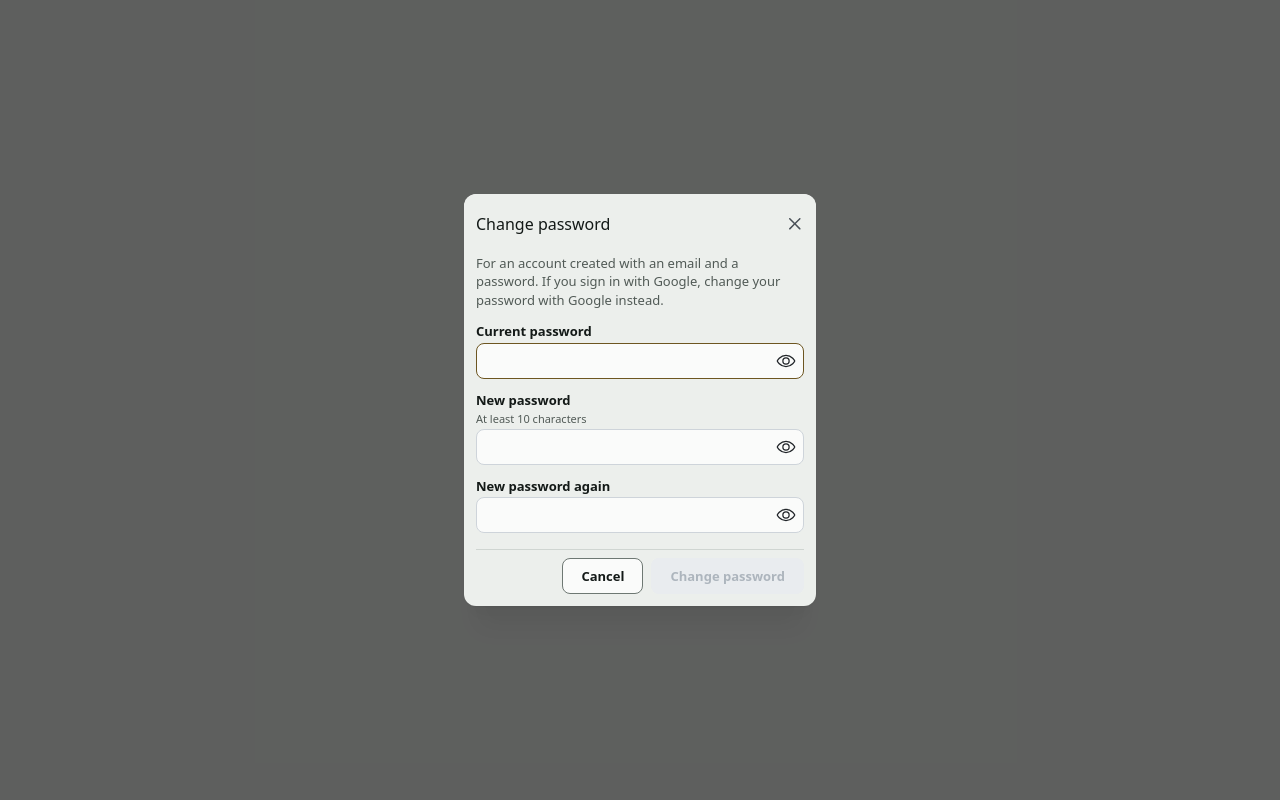
Test: a changed password says this browser is signed in again and the others are not
In the password field labelled "Current password": (640, 361) [477,344,803,378], type "password1234"
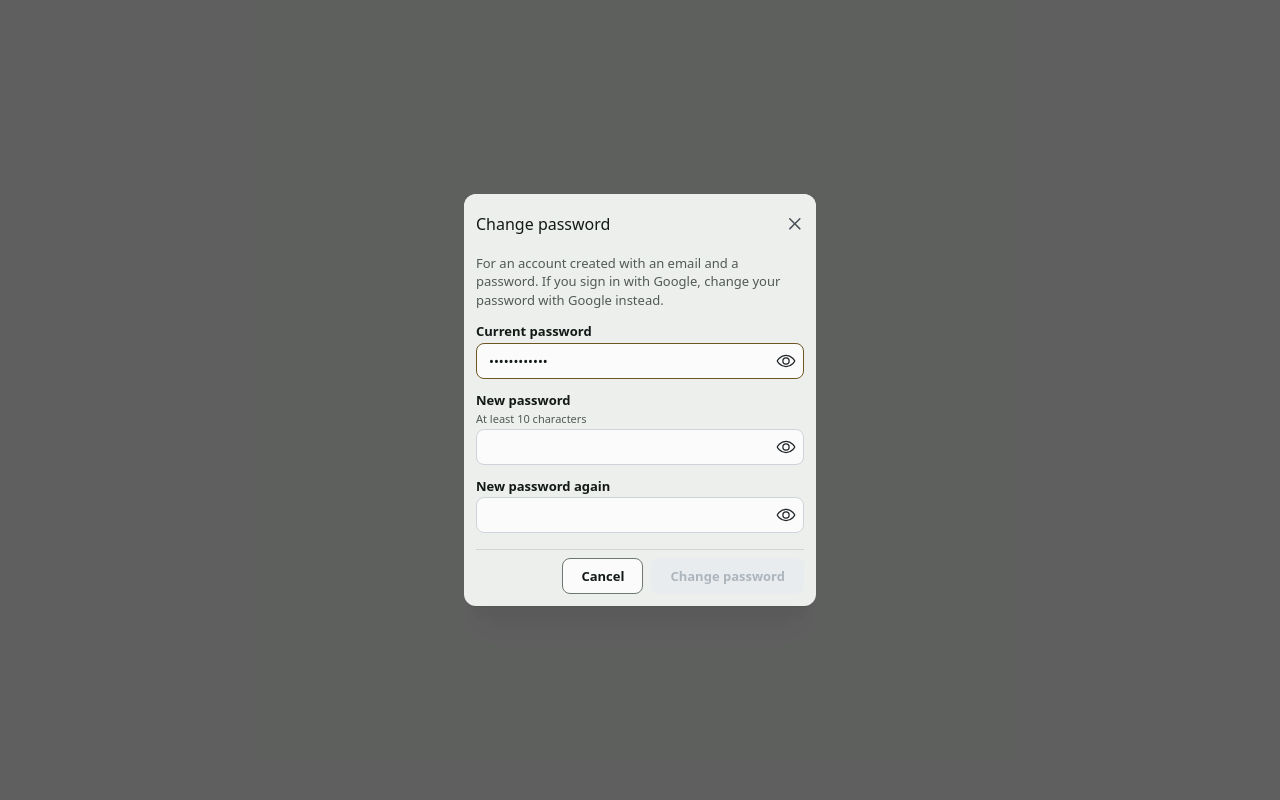
In the password field labelled "New password": (640, 447) [477,430,803,464], type "newpassword12"
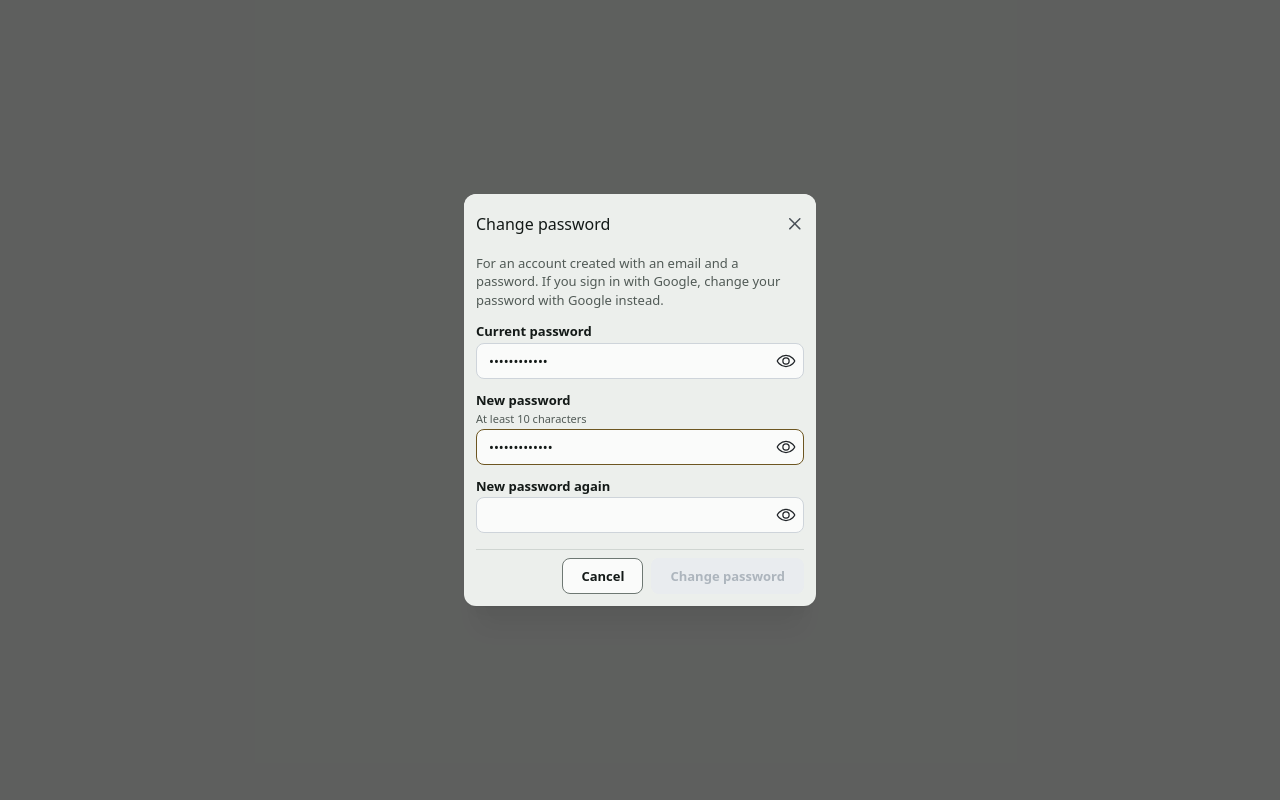
In the password field labelled "New password again": (640, 515) [477,498,803,532], type "newpassword12"
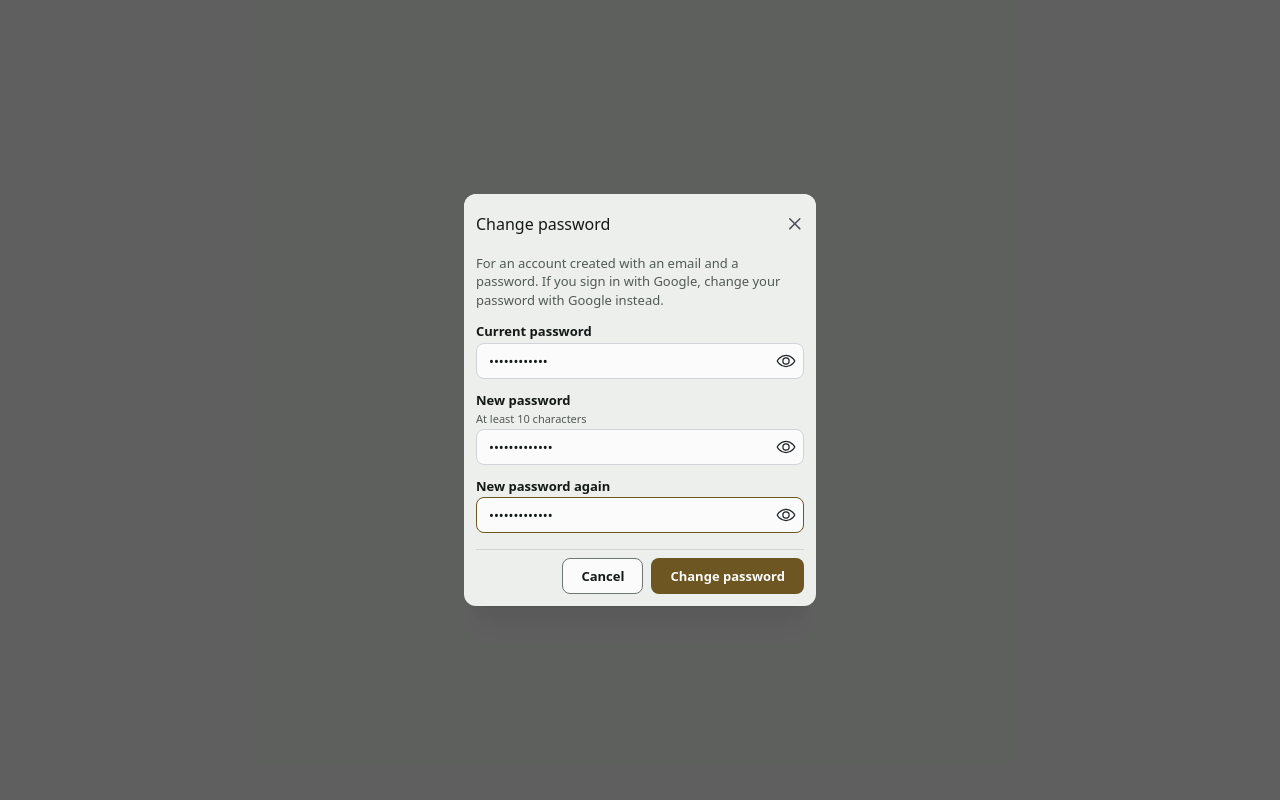
Click the button "Change password": (728, 576) [651,558,804,594]
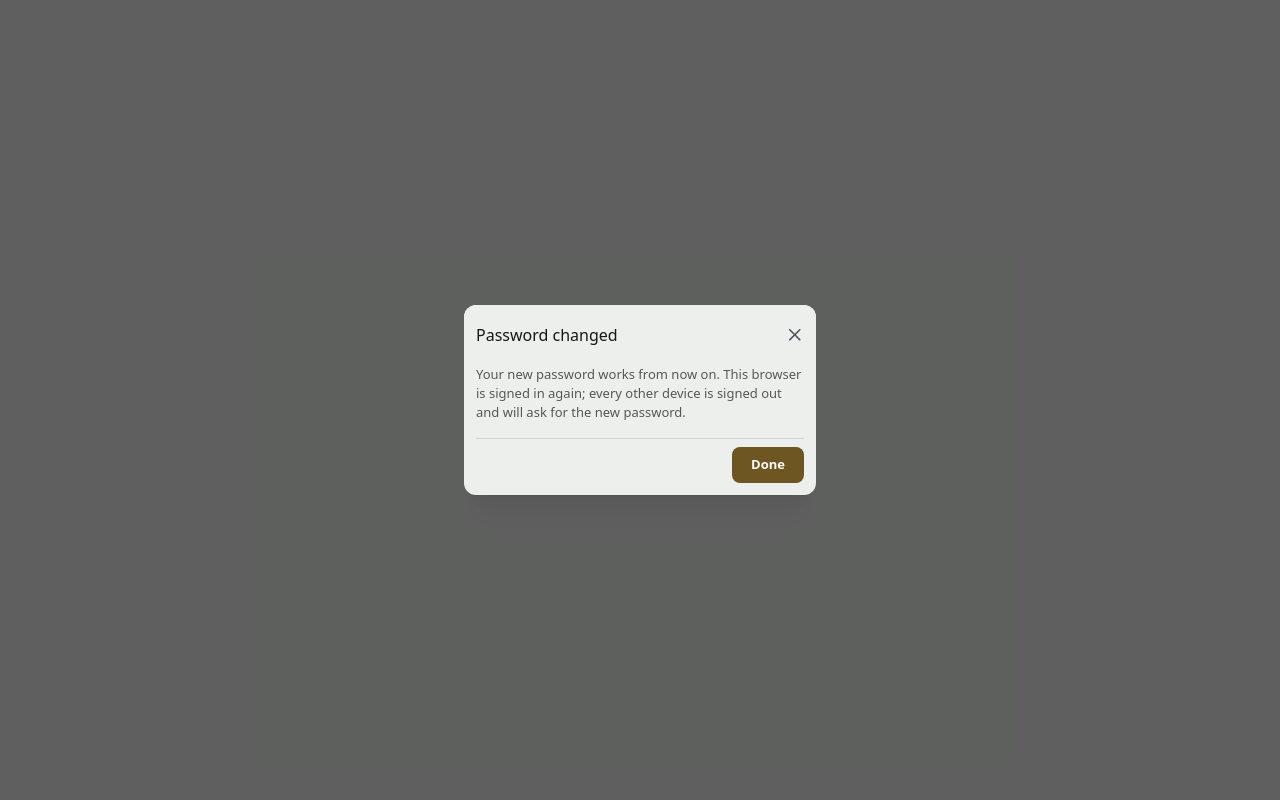
Check: the text "every other device is signed out" is shown, box [476,365,801,421]
